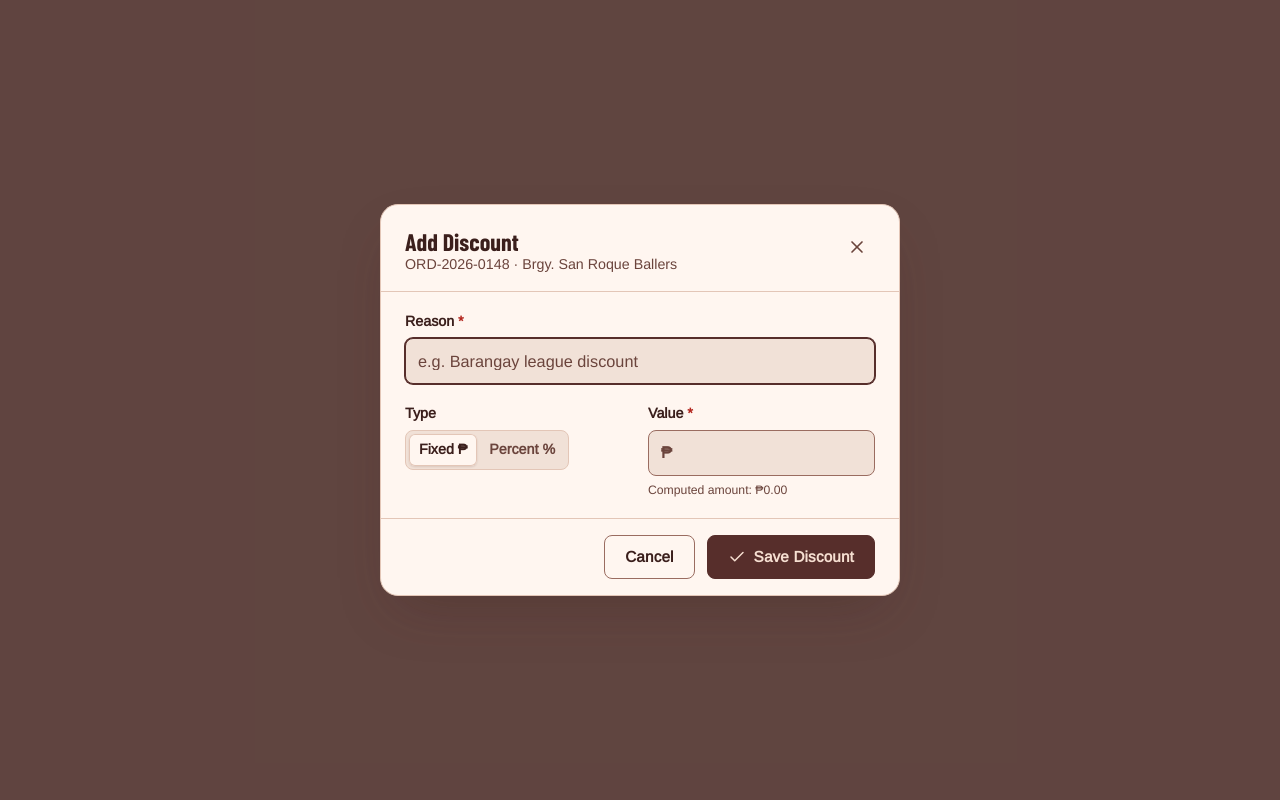
Test: Type and the Computed amount preview › clears Value when Type changes and keeps the typed Reason
The width and height of the screenshot is (1280, 800).
Type "Club" into the field labelled "Reason *" at coordinates (640, 361), box 406,339 -> 874,383
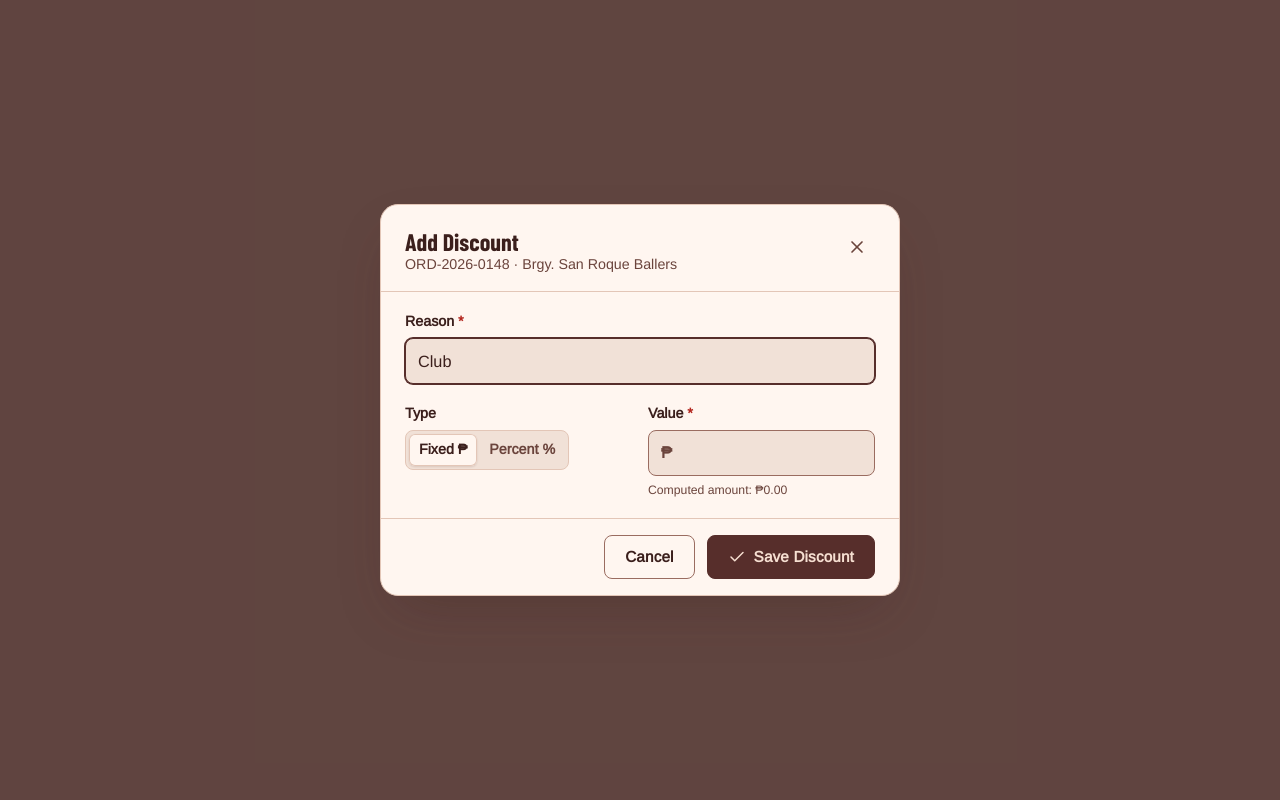
Type "500" into the field labelled "Value *" at coordinates (773, 453), box 672,431 -> 874,475
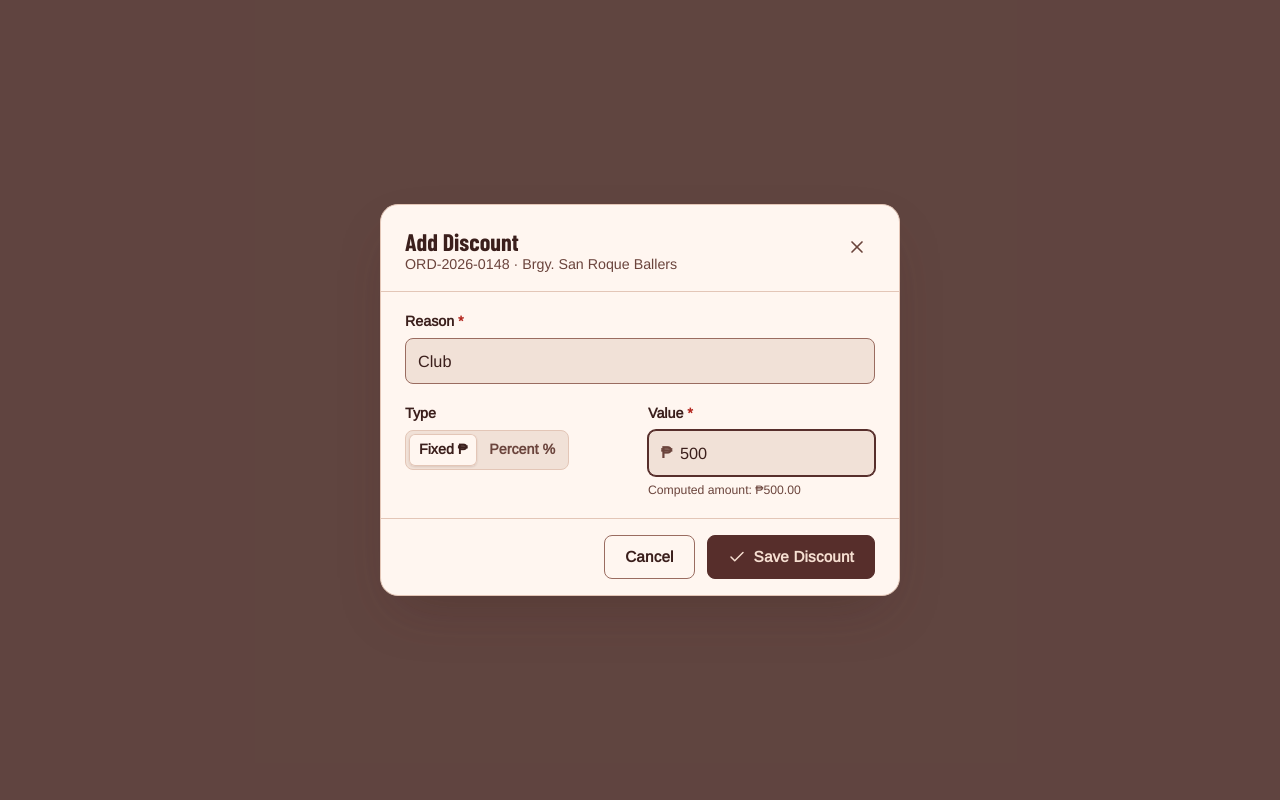
Click the radio button labelled "Percent %" at coordinates (522, 450), box 479,434 -> 565,466
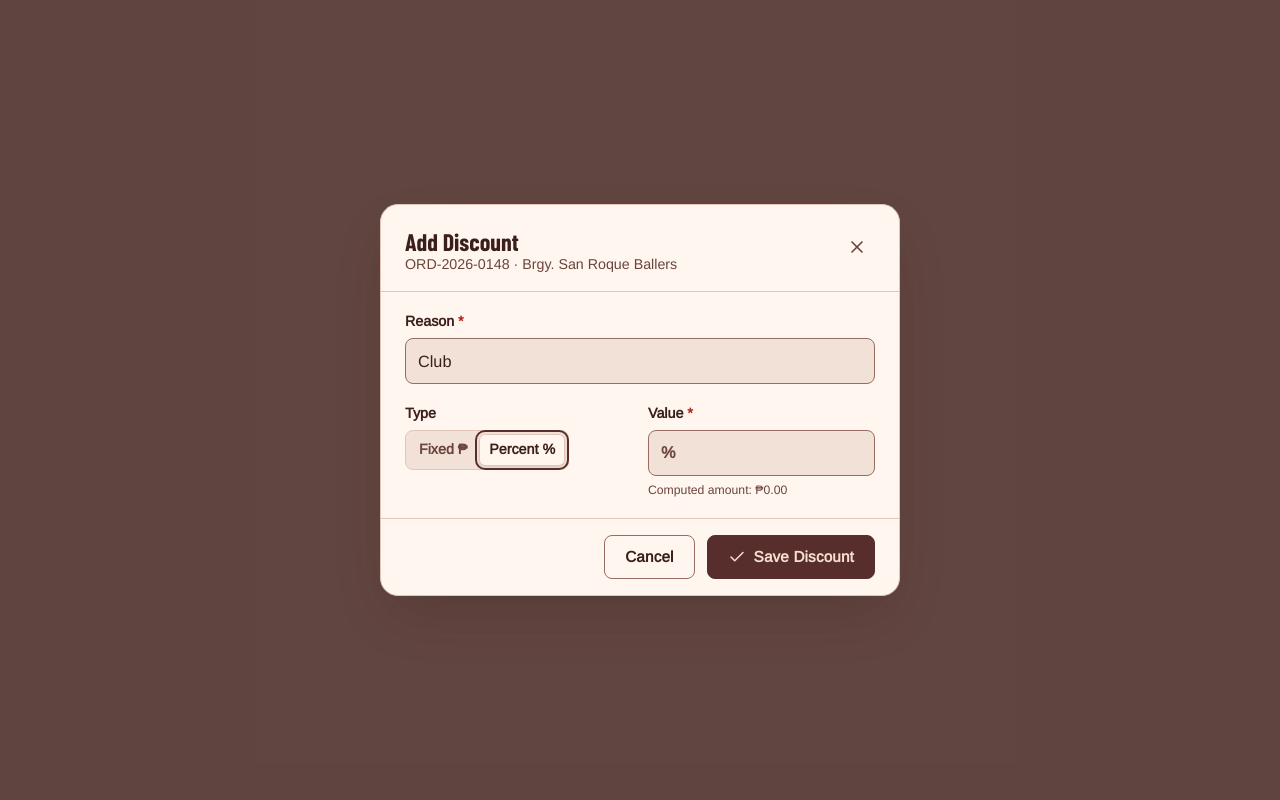
Check: the radio button labelled "Percent %" is checked, box 479,434 -> 565,466
Check: the field labelled "Value *" is empty, box 676,431 -> 874,475
